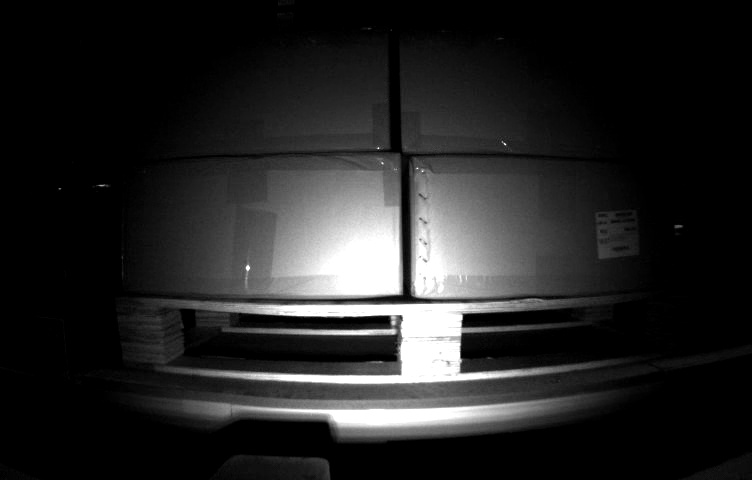True Barcode: (594, 210, 641, 260)
